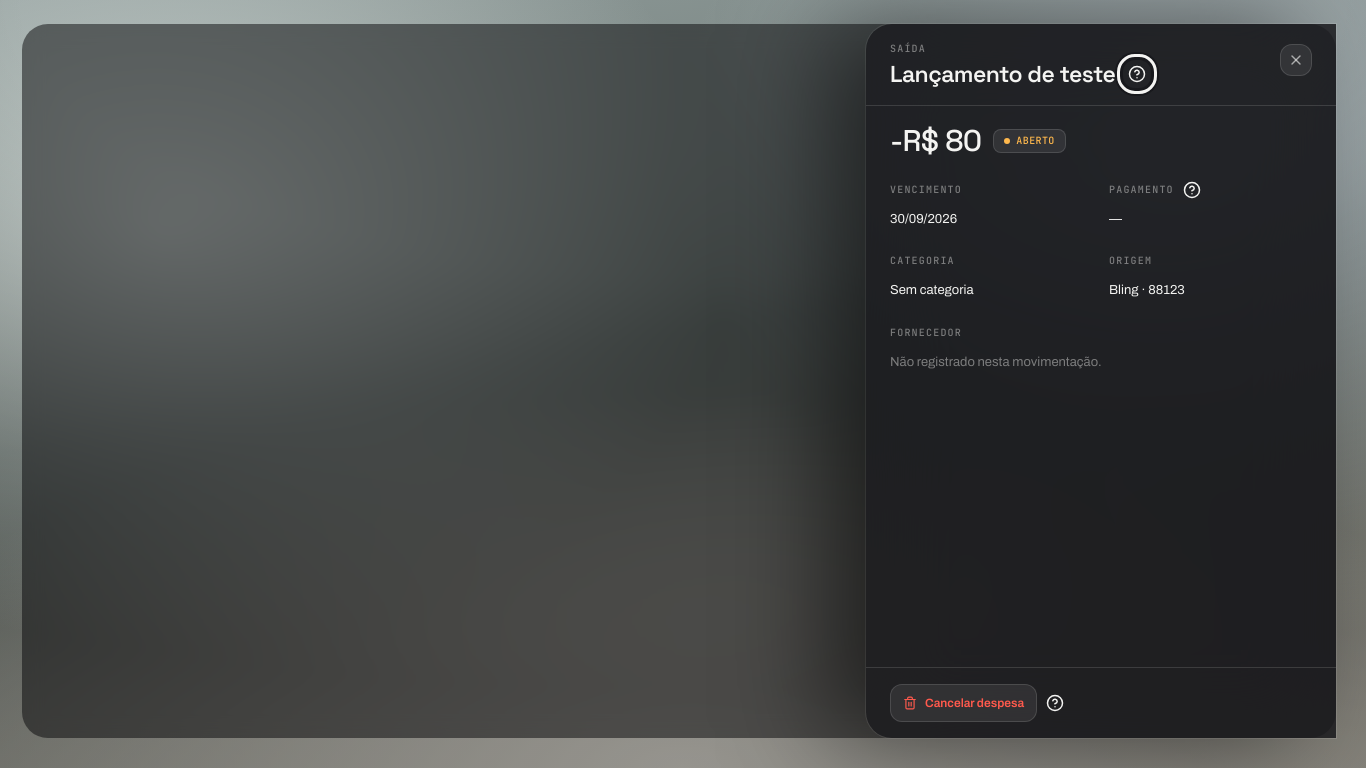
correção de lançamento no detalhe da movimentação › Blocked: frase amigável, o detalhe continua e a lista não é relida
The image size is (1366, 768).
What coordinates should you click on to do the following:
click the button "Cancelar despesa"
I would click on:
 (964, 703)
Its box is [890,684,1037,722].
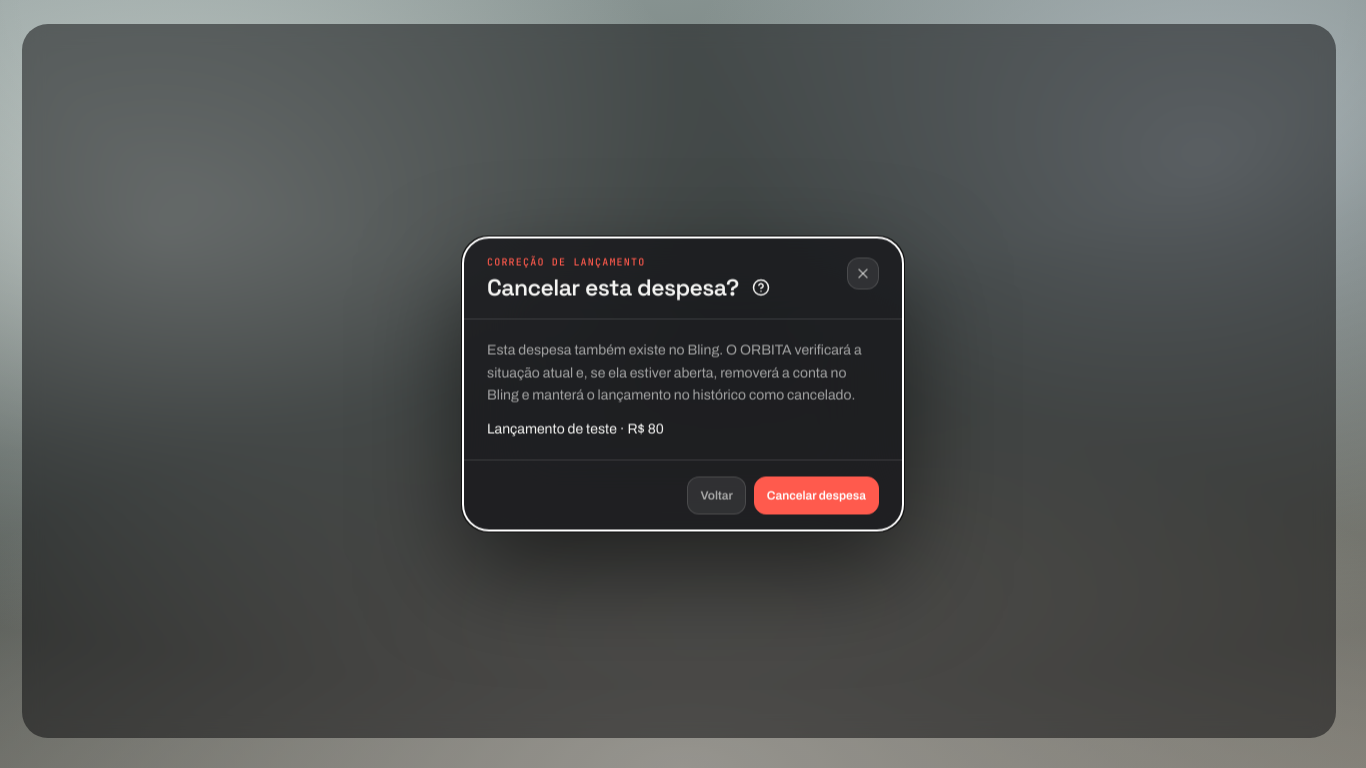
What coordinates should you click on to do the following:
click the button "Cancelar despesa"
I would click on:
 (816, 496)
Its box is [754,476,879,514].
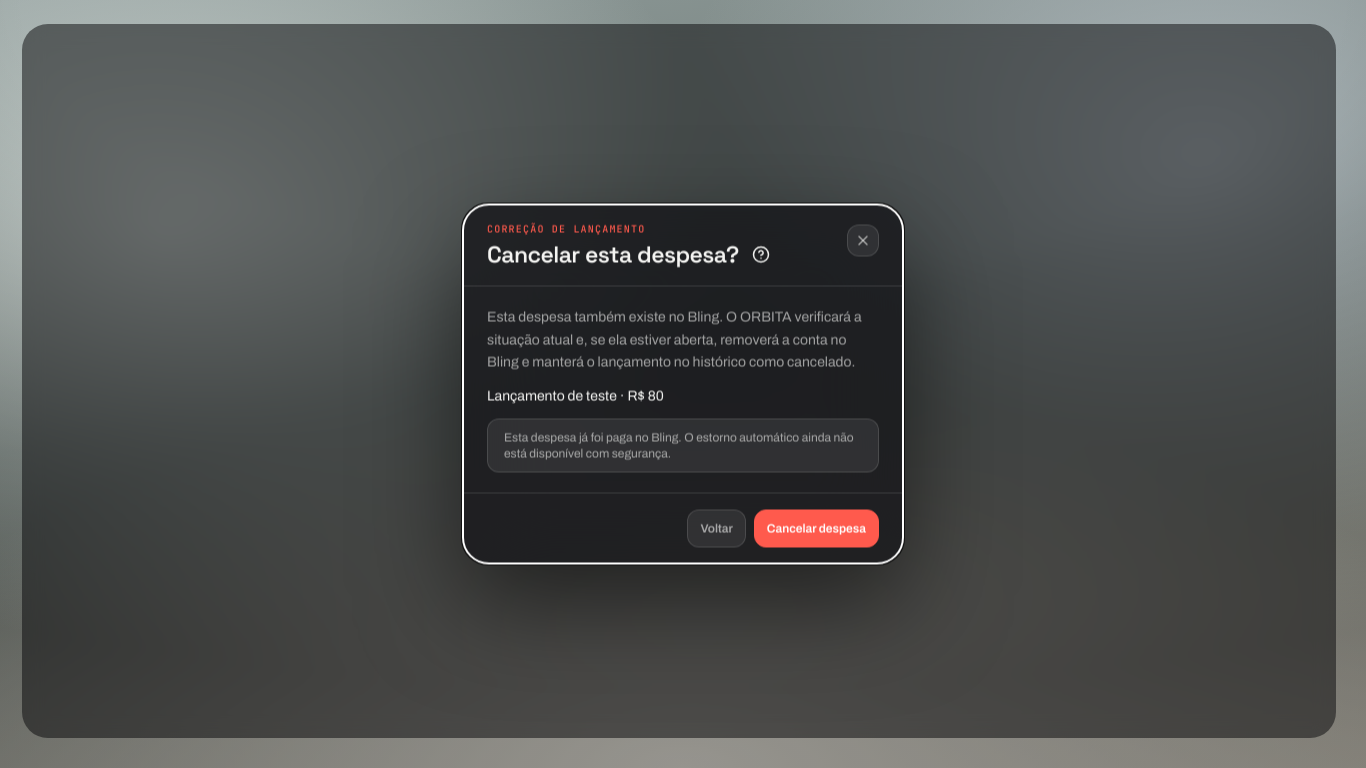
Result: the message shows "Esta despesa já foi paga no Bling." at [504,430,854,460]
